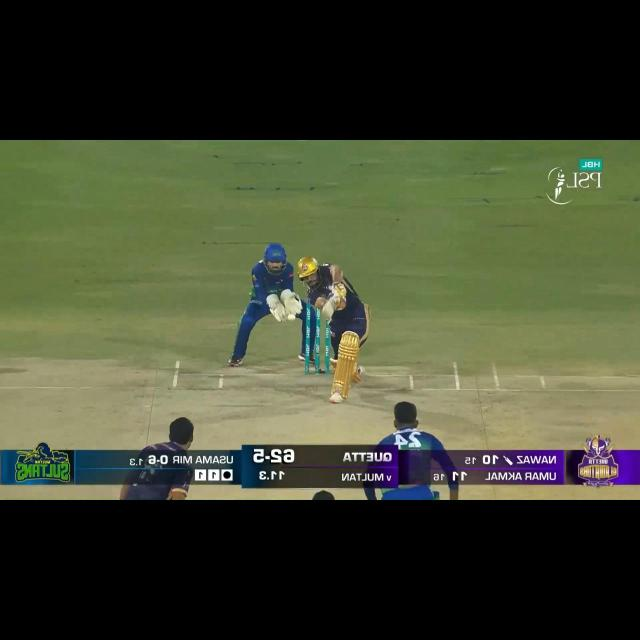bat: (320, 302, 336, 321)
toe: (322, 309, 331, 320)
